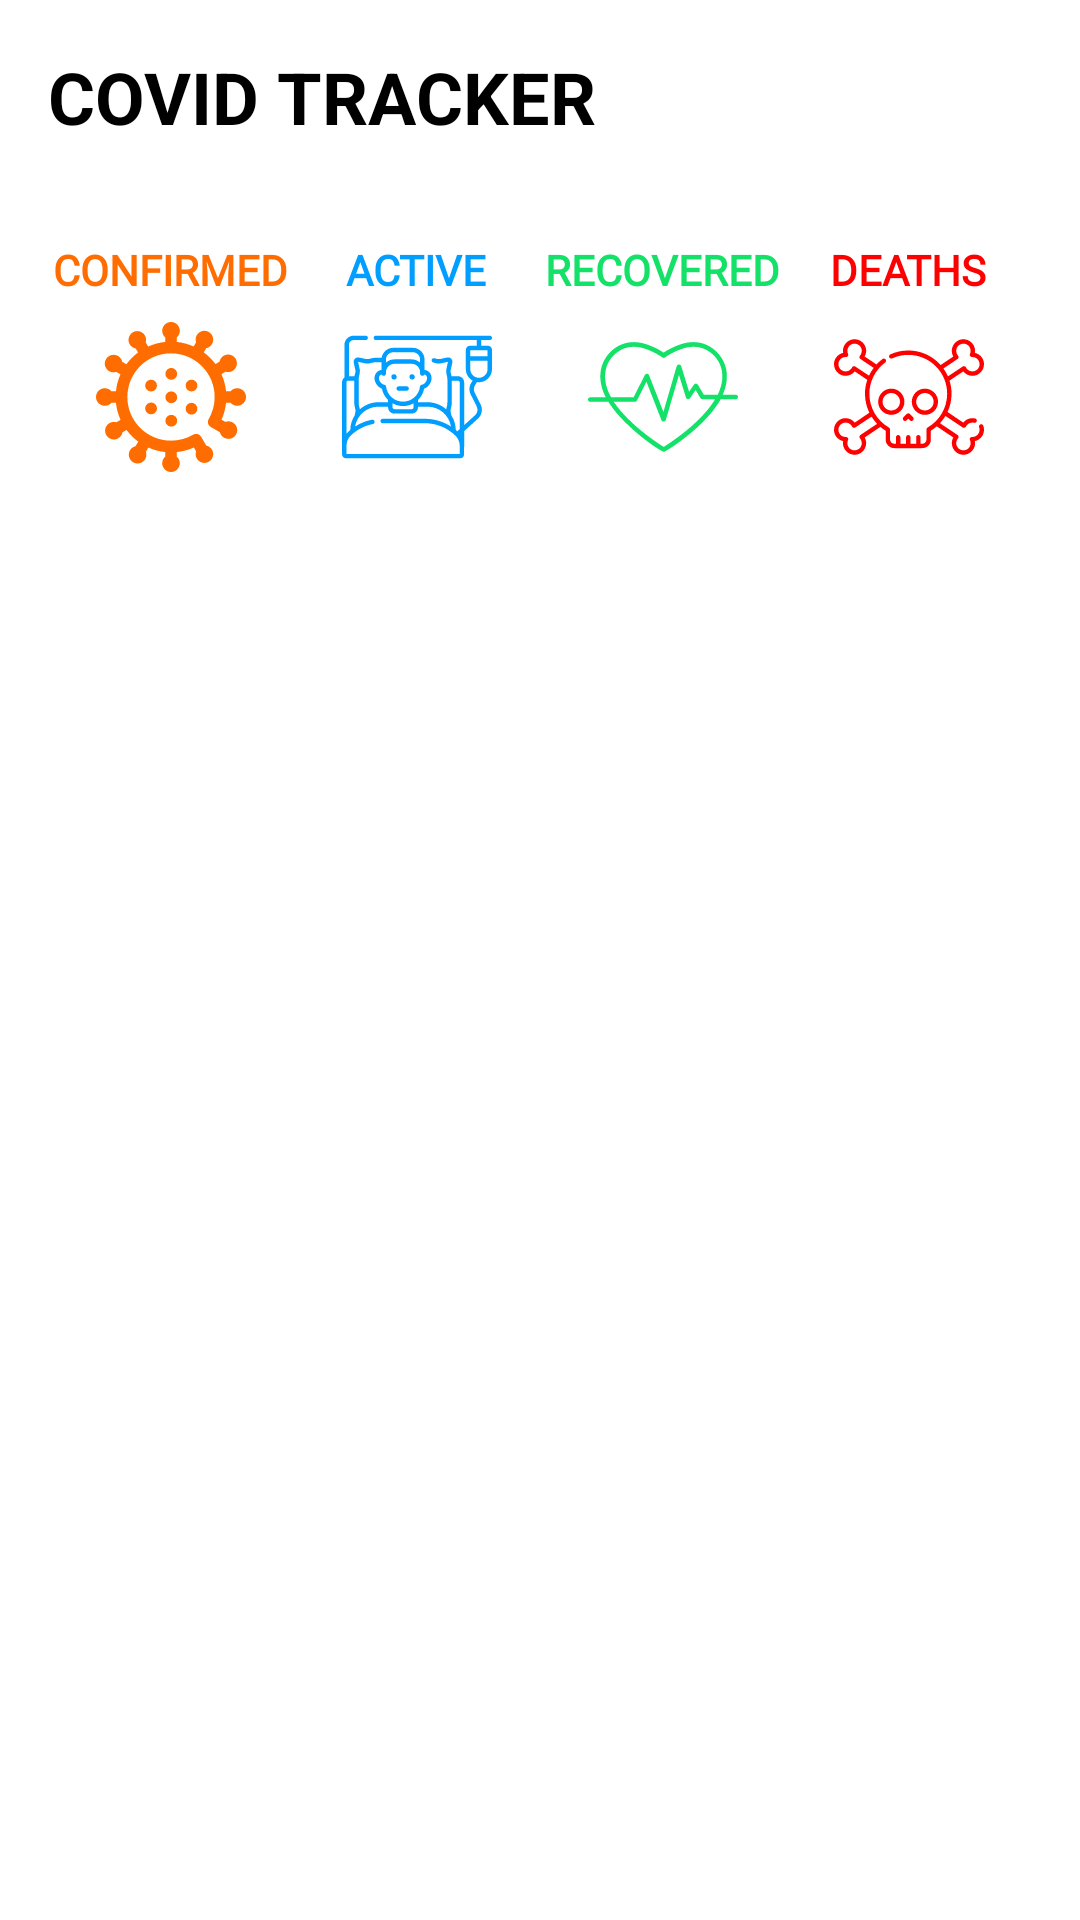

Named icons in this screenshot (1080px×1920px) and their bounding boxes, (x1, y1, x2, y2):
heart: (588, 342, 738, 452)
patient: (342, 335, 492, 459)
virus: (96, 322, 246, 472)
